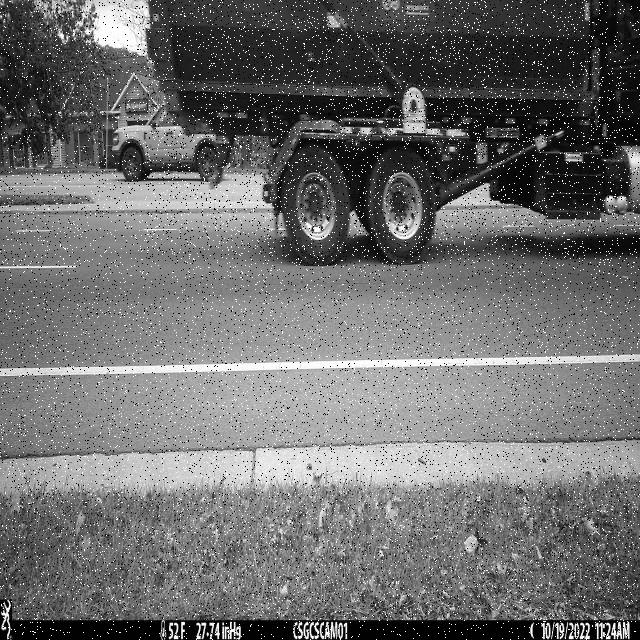Truck- Multi-Axle: (146, 0, 640, 266)
